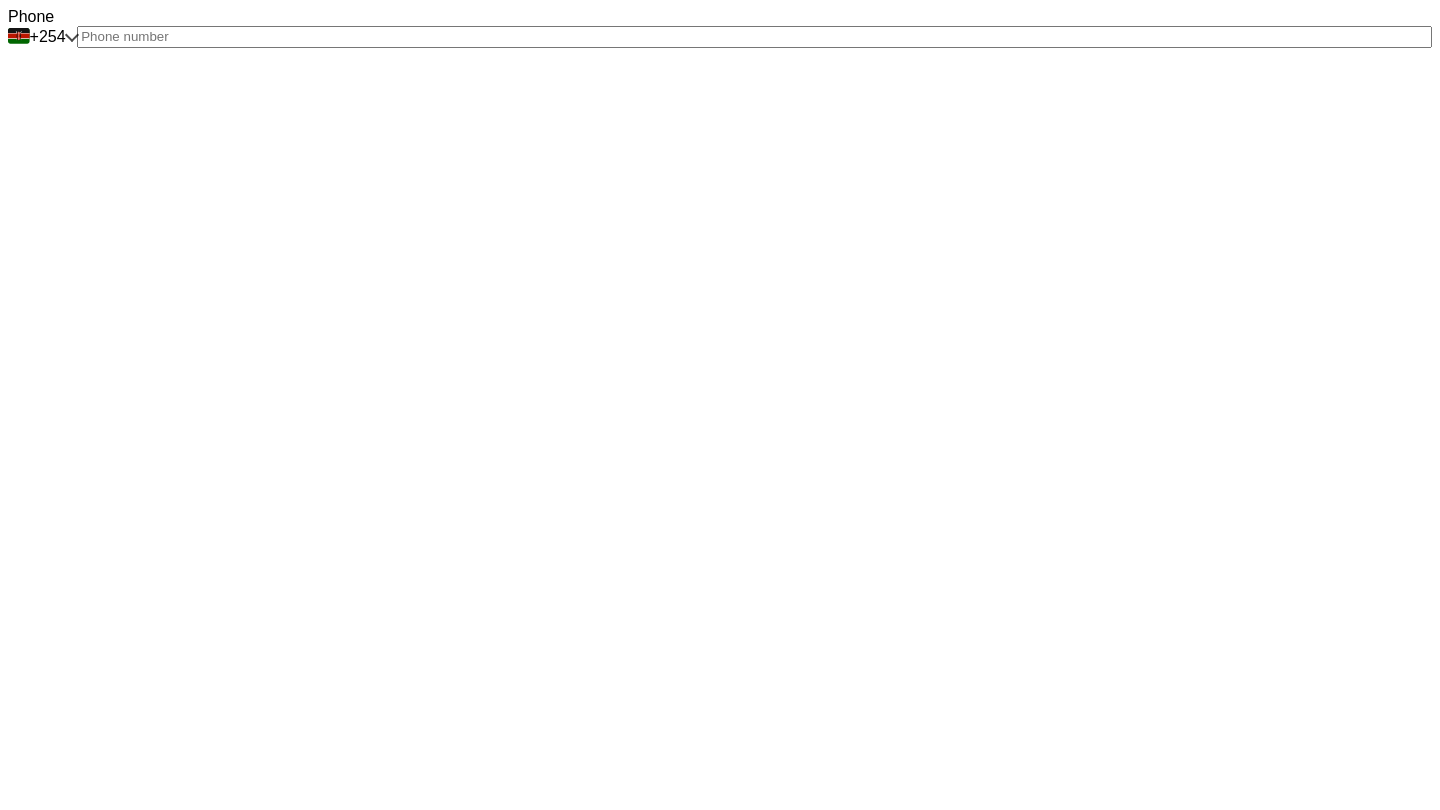
Test: PhoneInput › finds a country by its dial code, a nickname, and says so when nothing matches
Click the button named "country code": (43, 37) [8,26,77,48]
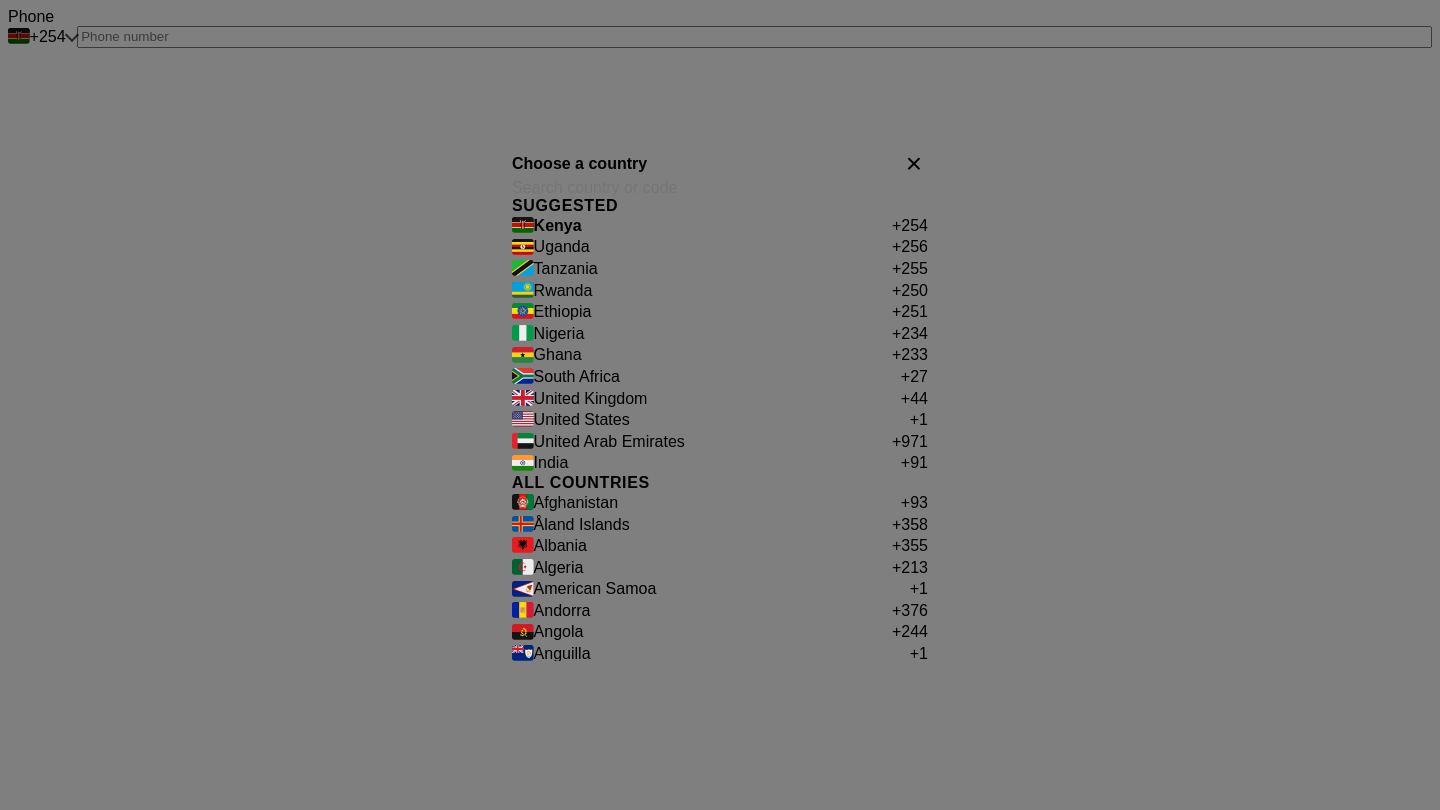
In the dropdown: (720, 188) [512,179,928,197], type "+44"
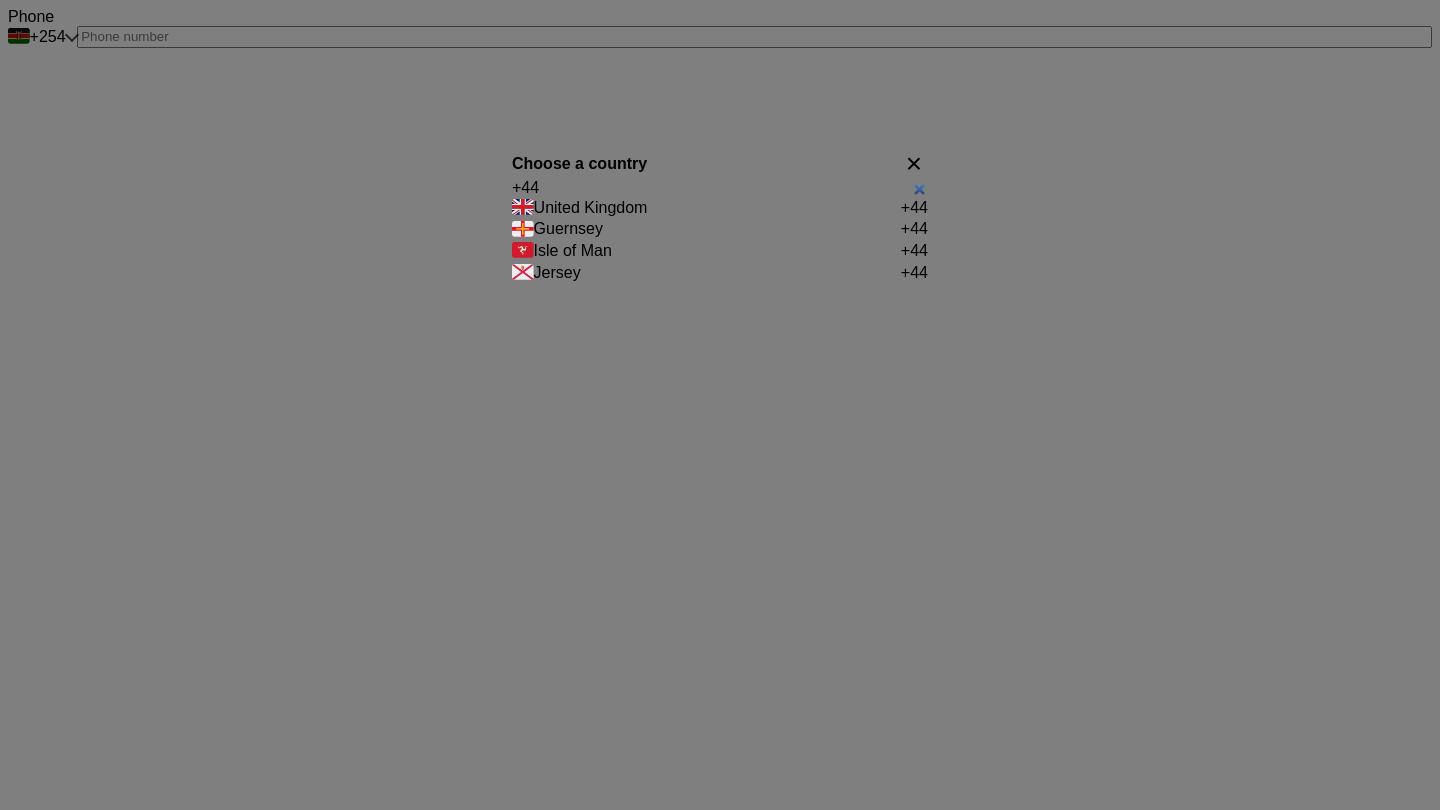
Check: the option "🇬🇧 United Kingdom +44" is shown, box [512,197,928,219]
Replace the text in the dropdown with "uk": (720, 188) [512,179,928,197]
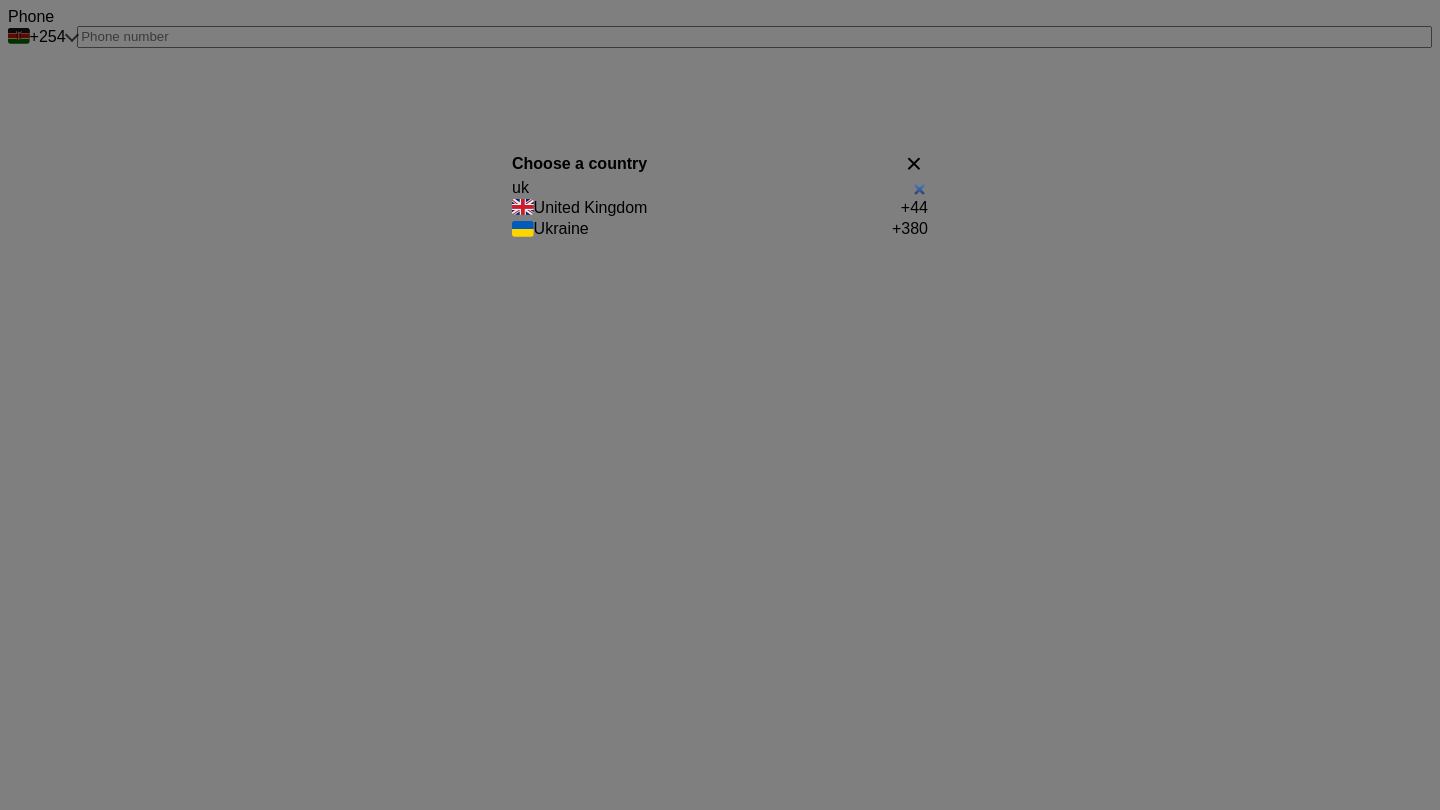
Check: the option "🇬🇧 United Kingdom +44" is shown, box [512,197,928,219]
Replace the text in the dropdown with "qqqq": (720, 188) [512,179,928,197]
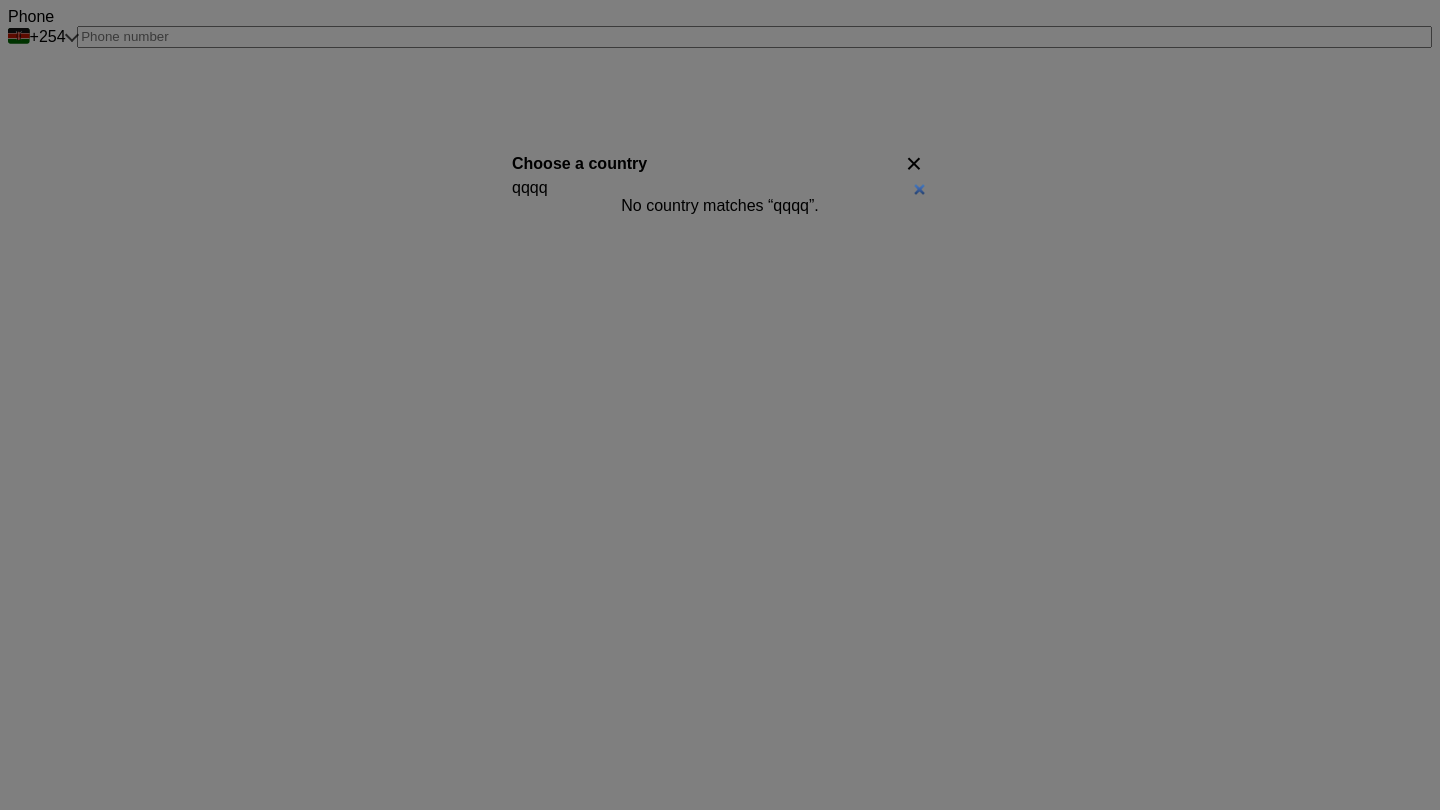
Check: no options are shown
Check: the list item "No country matches “qqqq”." is shown, box [621,197,819,214]
